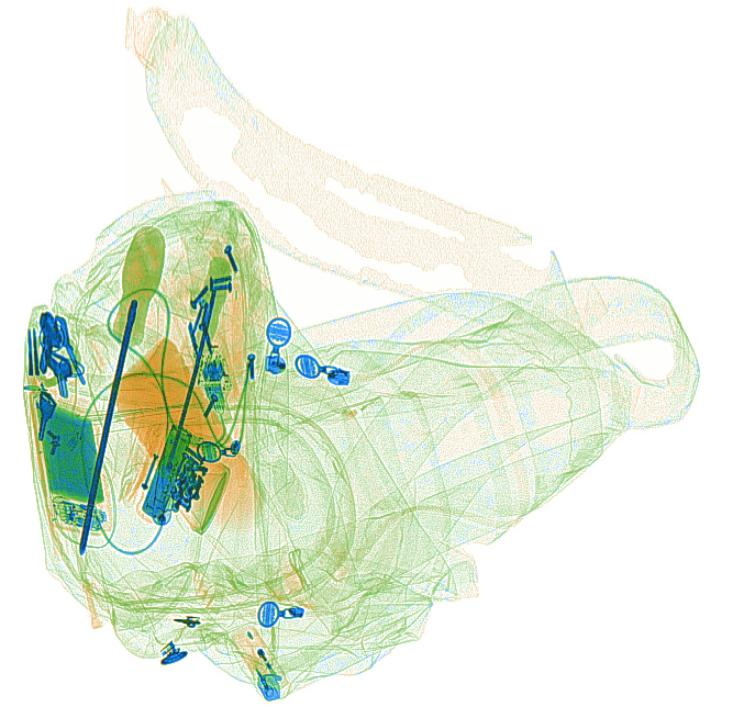battery: (142, 425, 194, 520)
lighter: (228, 621, 291, 701)
